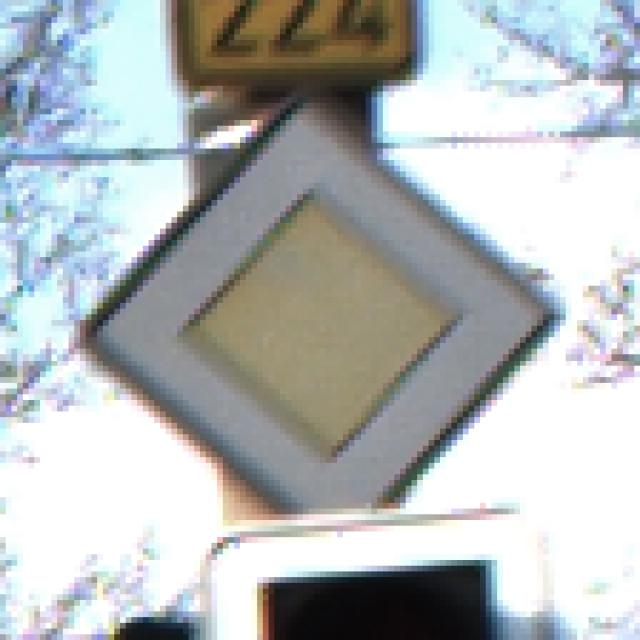Main Road: (53, 53, 590, 590)
